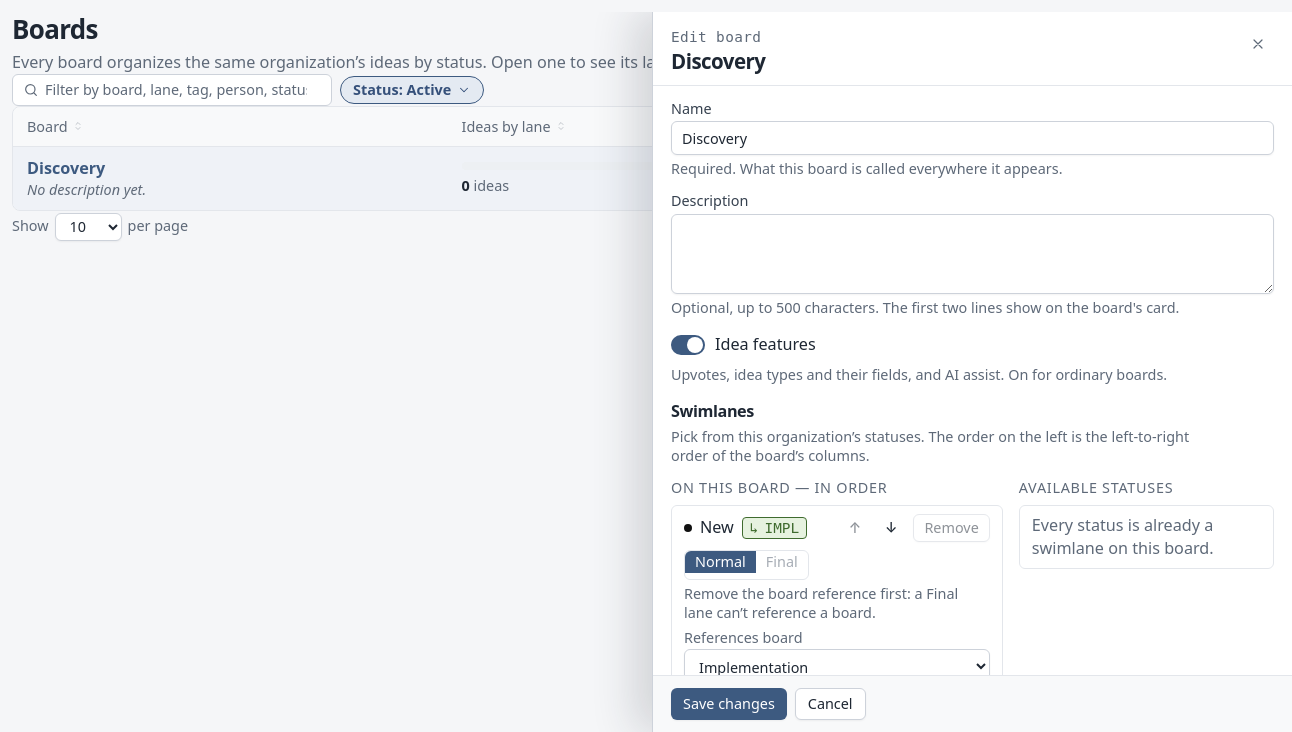
Test: the Boards drawer in edit mode › shows a lane refusal on its lane and nothing in the banner
The image size is (1292, 732).
Click the button "Save changes".
click(729, 704)  # box [671,688,787,720]
(page scrolled)
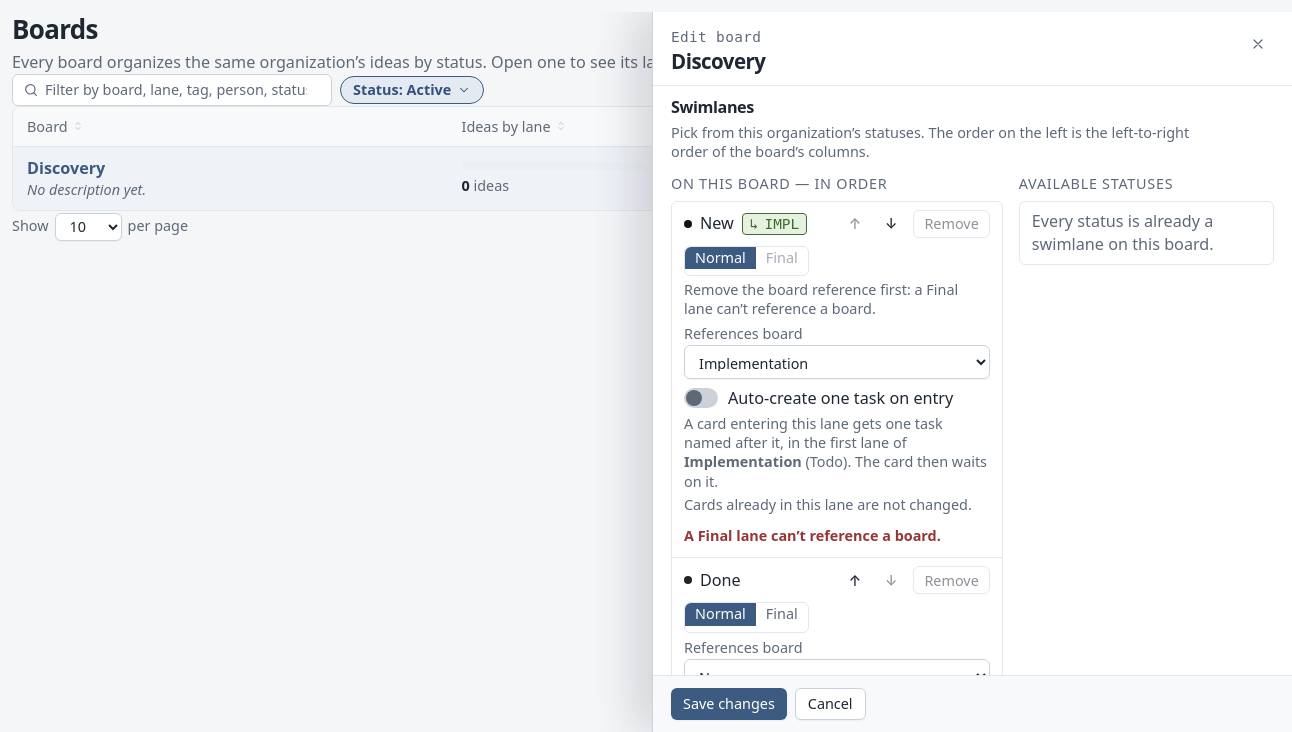
Check: the list item that starts with "New" is shown, box [700,212,734,234]
Check: the message reads "A Final lane can’t reference a board.", box [684,526,941,545]
Check: the number of messages is 1, box [684,526,941,545]
